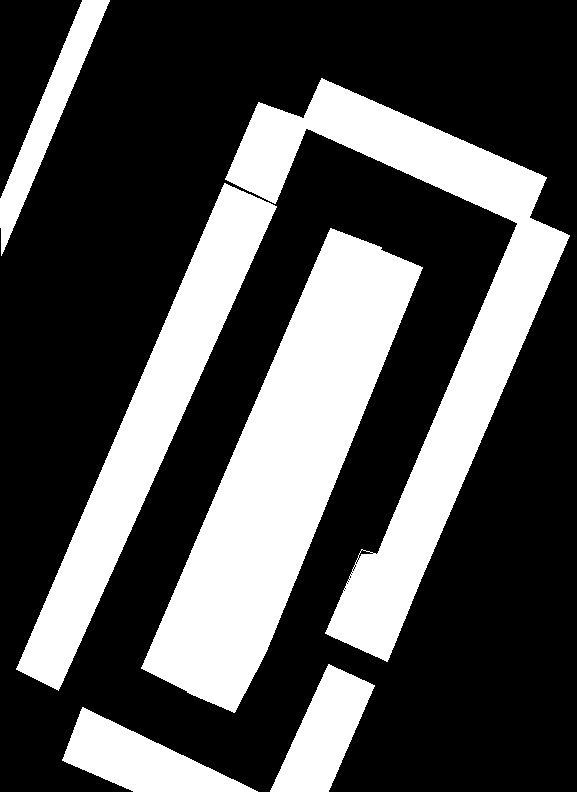parkingspot: (16, 183, 276, 690), (141, 228, 381, 691), (325, 214, 569, 661), (187, 250, 422, 712), (300, 78, 546, 226), (0, 0, 109, 255), (62, 707, 257, 791), (270, 664, 374, 791), (225, 102, 309, 203)
